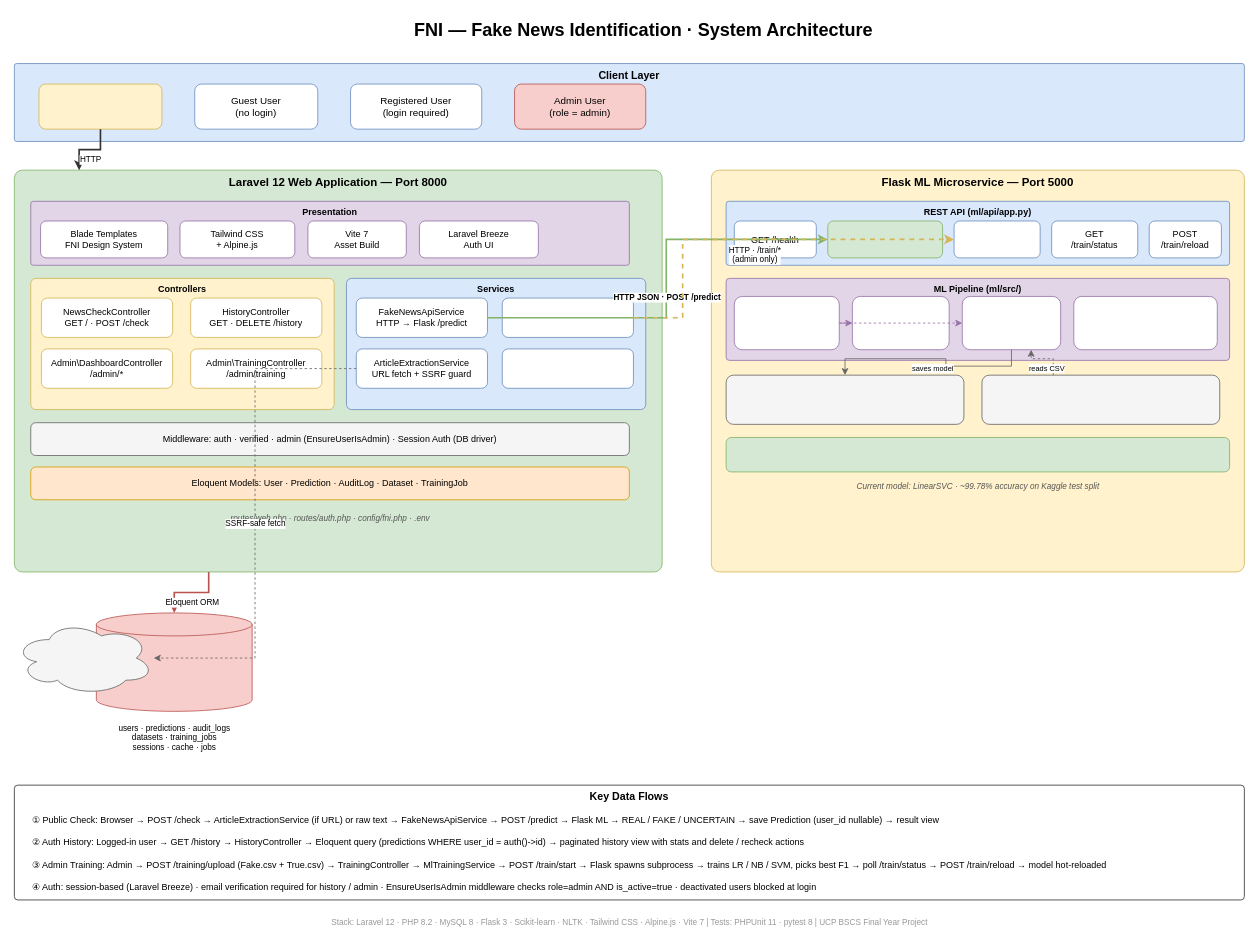
The diagram is 1259 pixels wide and 946 high, and some of its shapes have lost their labels. Here are the shapes that lost their labels. From the top down, the centre of each, then its label:
point (100, 106): Web Browser
point (885, 239): POST /predict { text } → label, conf
point (996, 239): POST /train/start
point (567, 317): MlTrainingService HTTP → Flask /train/*
point (786, 323): preprocess.py NLTK · stemming HTML strip
point (900, 323): predictor.py TF-IDF + classifier
point (1011, 323): trainer.py LR · NB · SVM picks best F1
point (1145, 323): training_status.py JSON progress + lock file
point (567, 368): AuditLogger Admin action log
point (844, 399): Model Store model.pkl · model_meta.json · config.json
point (1100, 399): Training Data (Kaggle) Fake.csv · True.csv (ml/data/raw/)
point (977, 454): Output: REAL · FAKE · UNCERTAIN (confidence < 0.60 → UNCERTAIN)
point (84, 657): External News URLs (HTTPS)
point (174, 661): MySQL 8 fni_db
